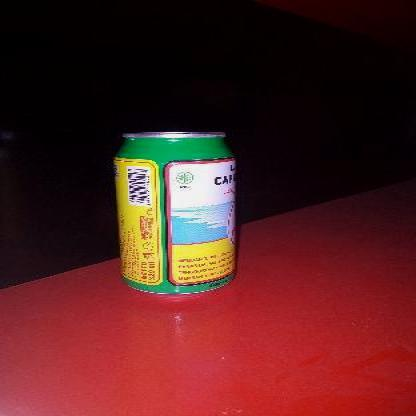alumunium_can: (110, 130, 240, 298)
